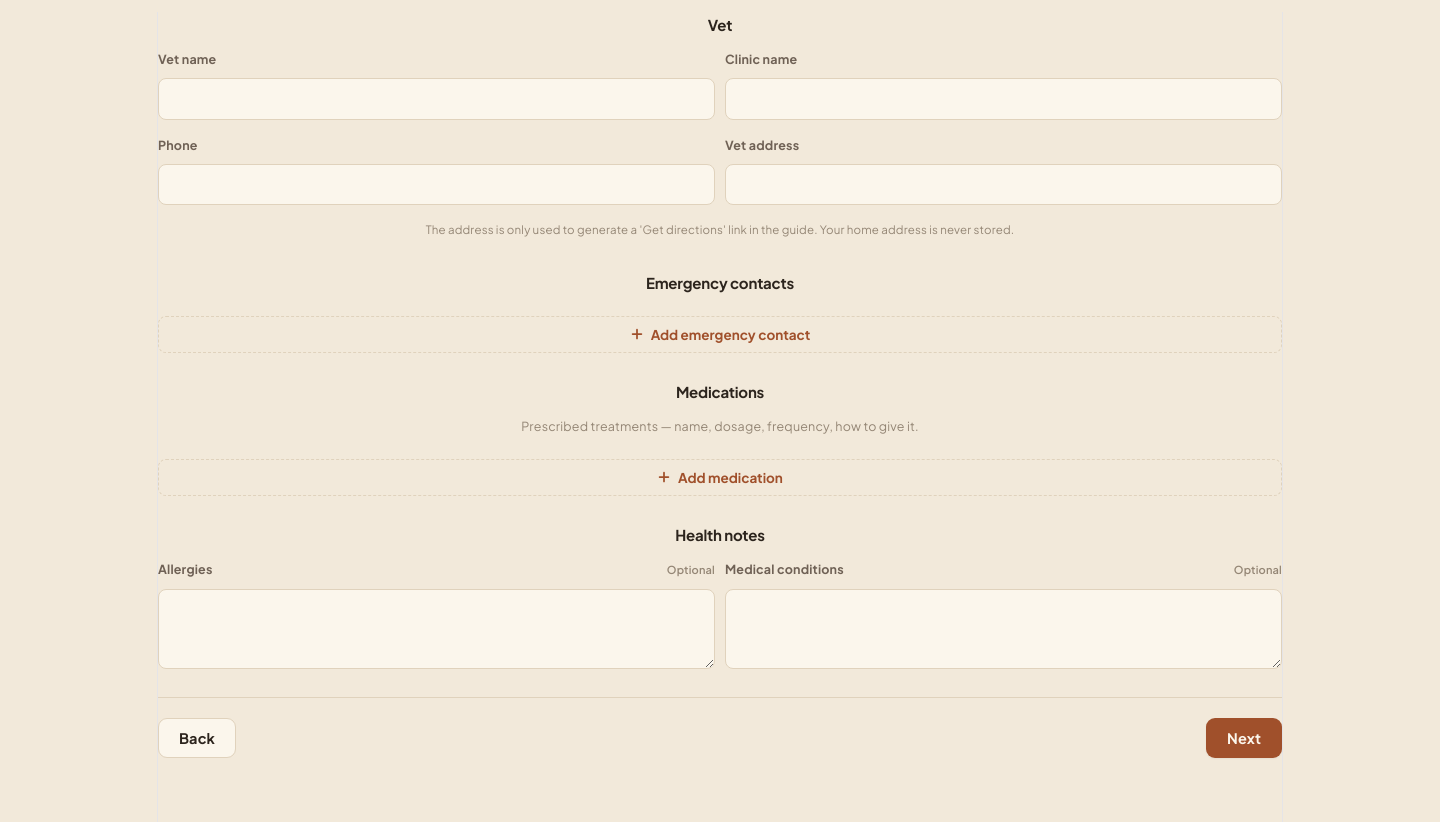
Scenario: MedicalStep emergency contacts › clicking Add emergency contact appends a row with Name, Phone, and Relationship fields
The width and height of the screenshot is (1440, 822).
Click the button "Add emergency contact".
click(720, 334)  # box x1=158 y1=316 x2=1282 y2=353
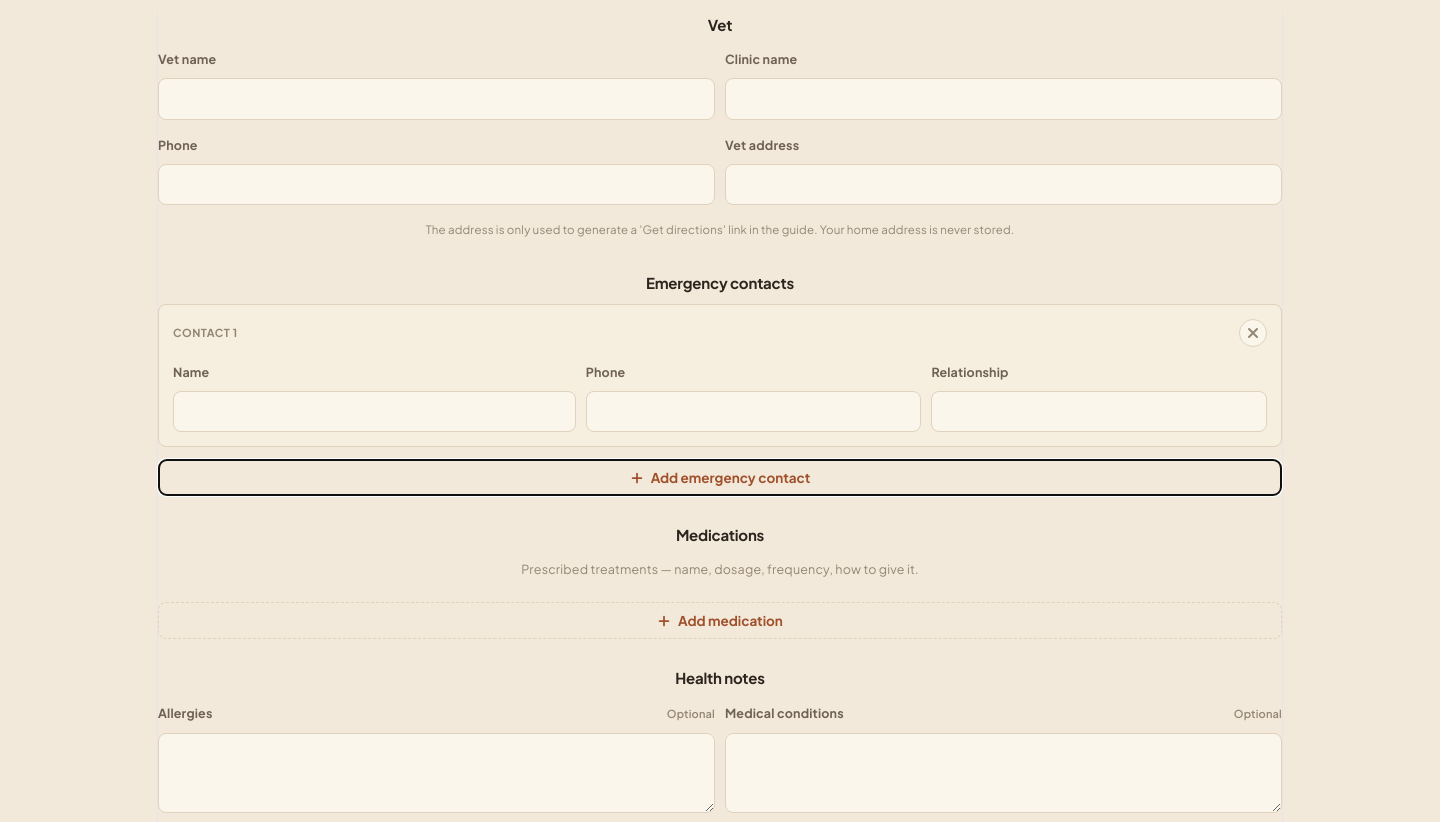
Result: the field labelled "Name" is shown at x1=173 y1=391 x2=576 y2=432
Result: the field labelled "Phone" below "Relationship" is shown at x1=586 y1=391 x2=921 y2=432
Result: the field labelled "Relationship" is shown at x1=931 y1=391 x2=1267 y2=432
